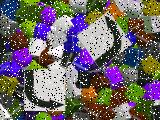Left: (77, 11, 132, 69), (24, 69, 66, 111)
